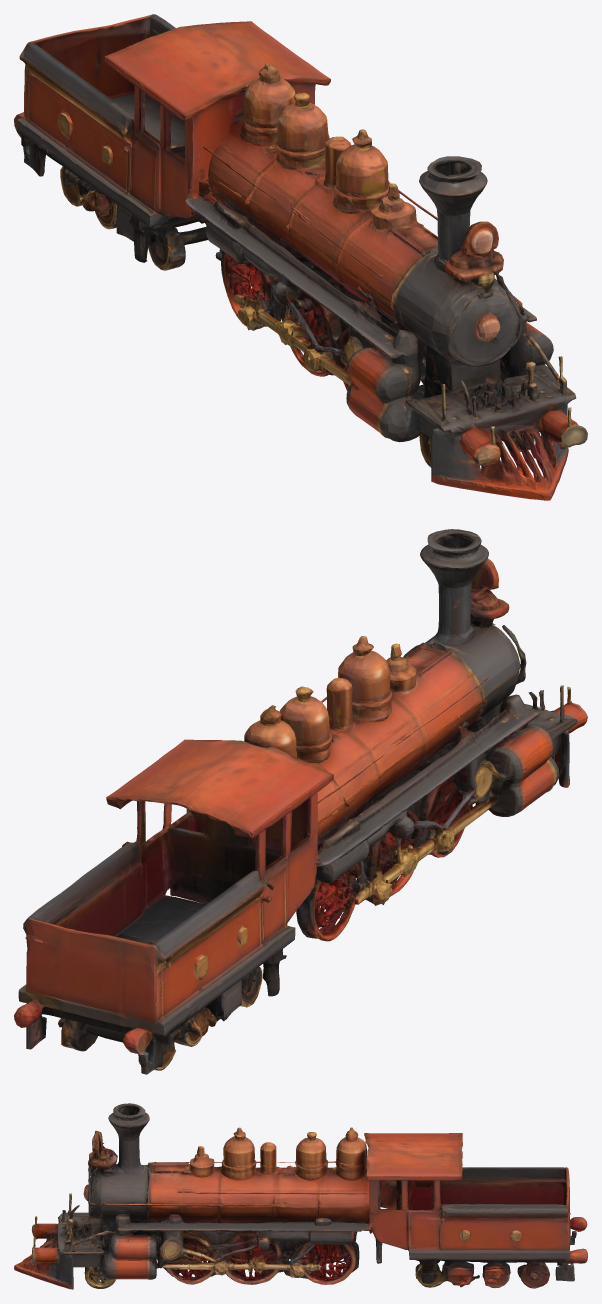
Rendered from steampunk_locomotive__0616105033_texture.fbx.
3 renders of one model, top to bottom at view 1: azimuth 30°, elevation 25°; view 2: azimuth 150°, elevation 25°; view 3: azimuth 270°, elevation 25°, orthographic. The views are drawn at different scales.
Visible parts, largest first — view 1: temp; view 2: temp; view 3: temp.
Boxes of the visible parts, x1=… form: temp: x1=14, y1=14, x2=587, y2=500; temp: x1=14, y1=529, x2=587, y2=1074; temp: x1=14, y1=1103, x2=587, y2=1289.
Bounding box in the file's own units: 43.06 × 63.98 × 200.
1 material, 1 textured.
